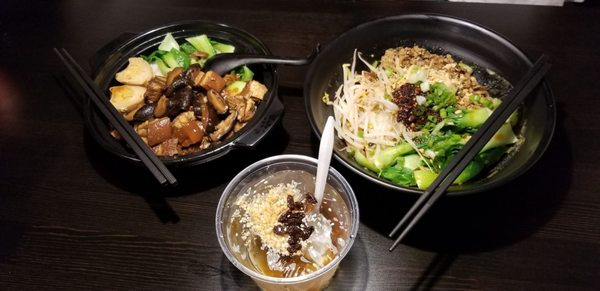salad: (387, 52, 556, 241), (200, 45, 321, 75), (311, 115, 337, 211)
sushi: (305, 15, 573, 246), (79, 19, 283, 178), (215, 154, 360, 288)
